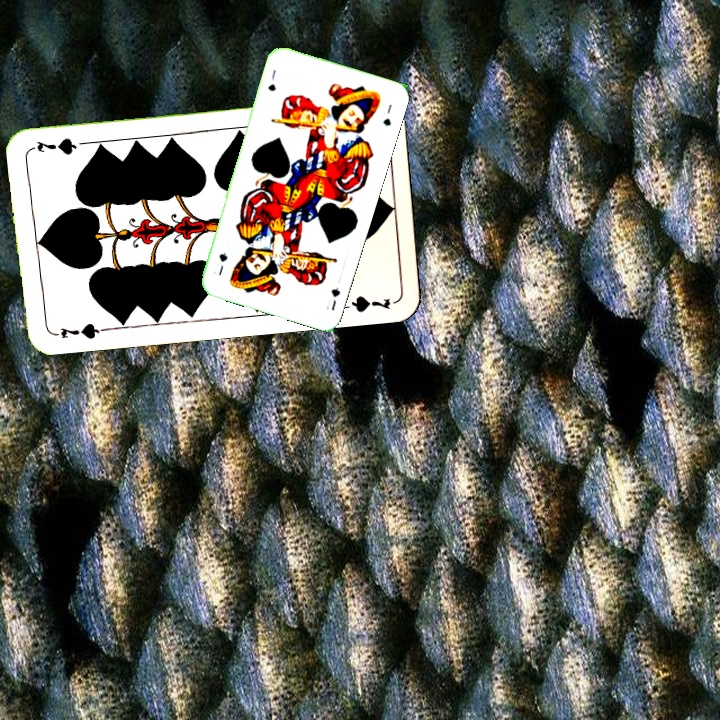G7: (48, 319, 107, 342)
GU: (322, 283, 343, 313), (264, 66, 279, 94)
